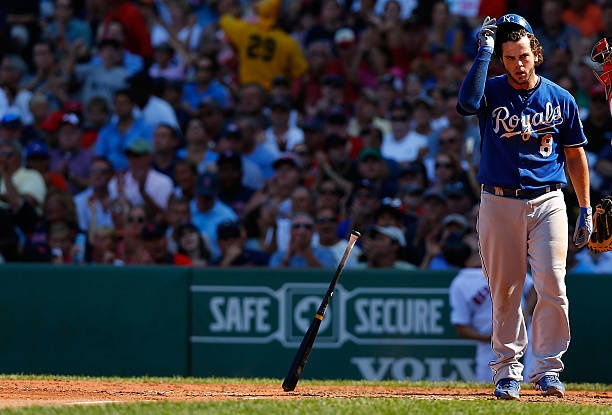bita: (283, 227, 360, 390)
